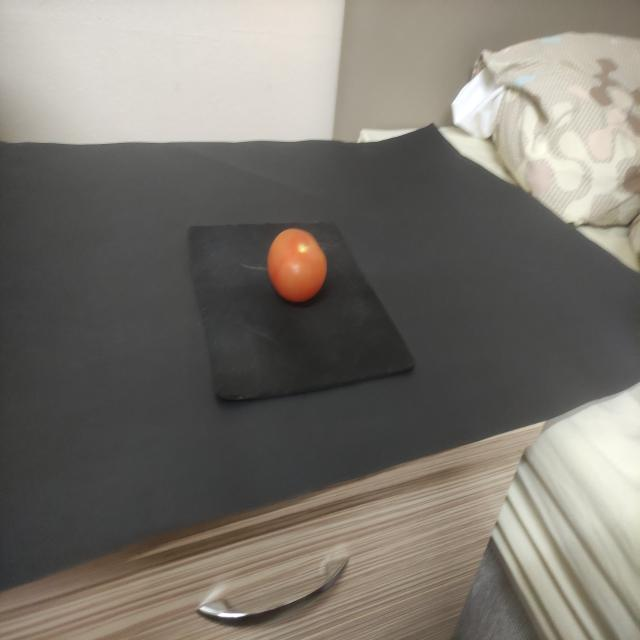sari: (256, 222, 336, 314)
